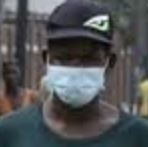with_facemask: (44, 61, 110, 109)
